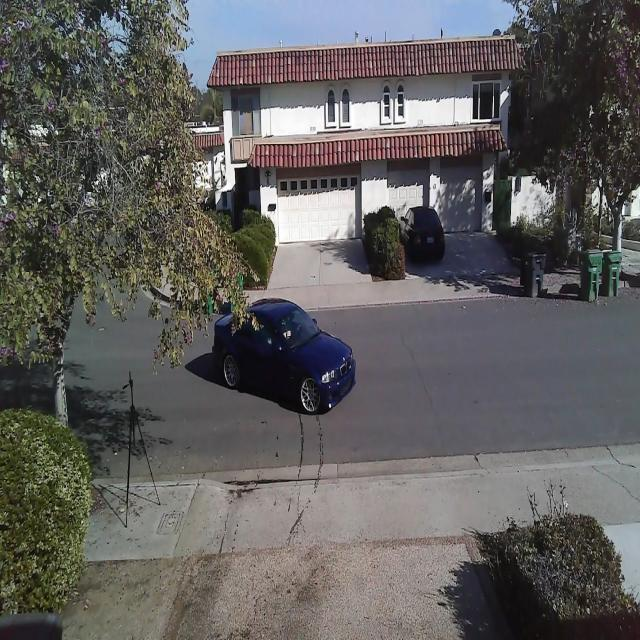Carbeetle: (205, 288, 359, 422)
Civilian: (399, 205, 446, 264)
